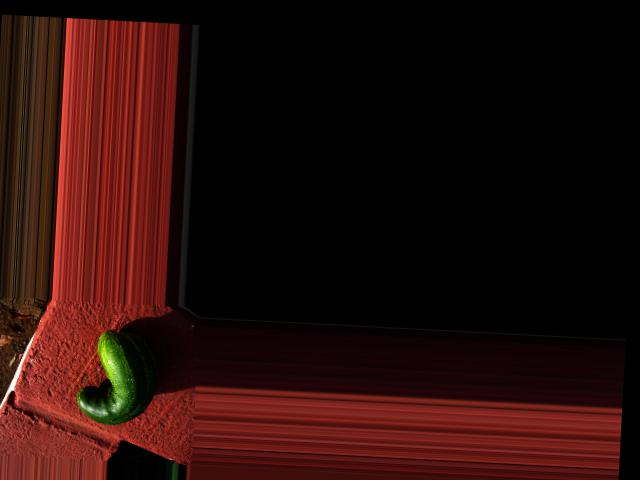cucumber: (74, 328, 159, 426)
